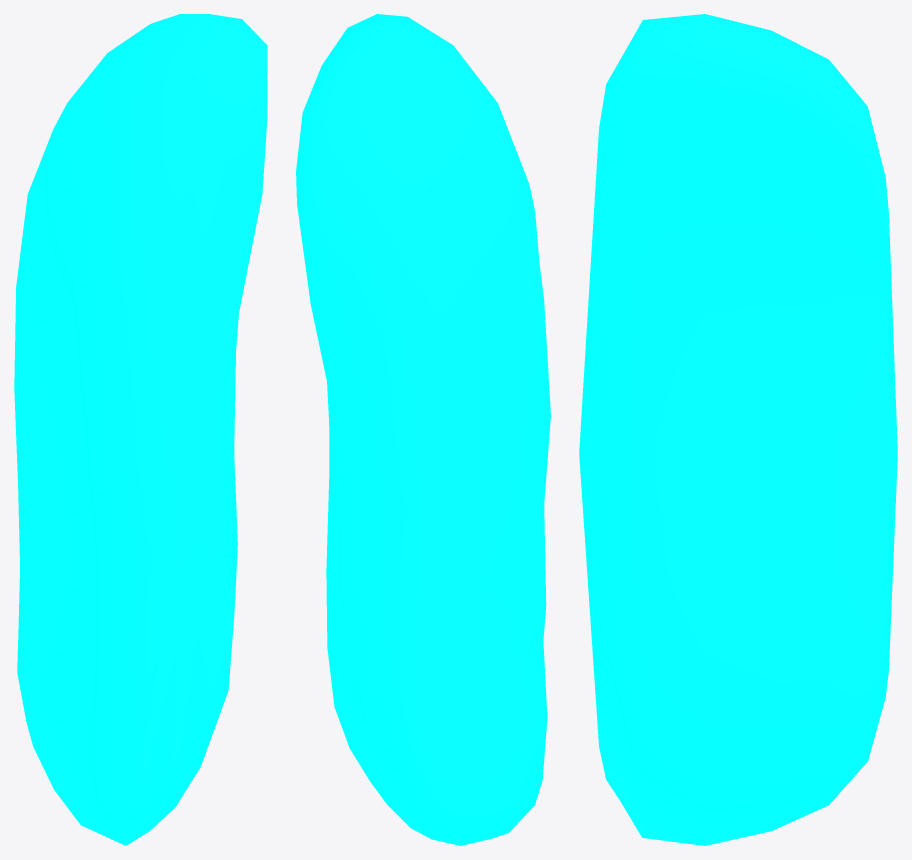
Rendered from Energy4.fbx.
3 views of the same model, side by side, from view 1: azimuth 30°, elevation 25°; view 2: azimuth 150°, elevation 25°; view 3: azimuth 270°, elevation 25° (orthographic). The views are drawn at different scales.
Visible parts, largest first — view 1: Energy4; view 2: Energy4; view 3: Energy4.
Boxes of the visible parts, x1,y1,x2,y2 form: Energy4: (14,14,267,845); Energy4: (296,14,550,845); Energy4: (579,14,897,845).
Size of the model in its own units: 12.81 by 55.62 by 18.12.
